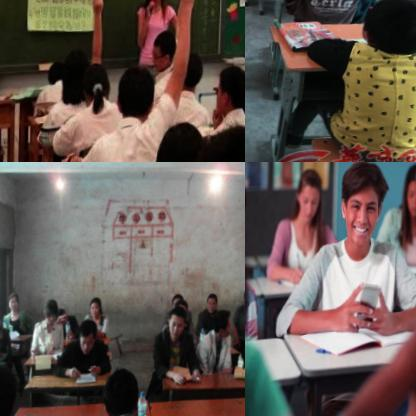head: (336, 164, 389, 253), (357, 0, 416, 70), (290, 168, 326, 232), (152, 120, 204, 162), (99, 366, 141, 416), (116, 67, 153, 120), (214, 67, 245, 118), (80, 66, 110, 112), (62, 49, 90, 97), (176, 50, 203, 92), (401, 164, 416, 233), (0, 361, 17, 416), (148, 34, 172, 72), (75, 323, 97, 361), (210, 311, 232, 344), (165, 312, 186, 344), (45, 60, 67, 90), (40, 299, 60, 330), (205, 296, 218, 318), (88, 300, 101, 322), (173, 302, 188, 320), (169, 295, 182, 314), (6, 294, 19, 312), (55, 310, 67, 326)
